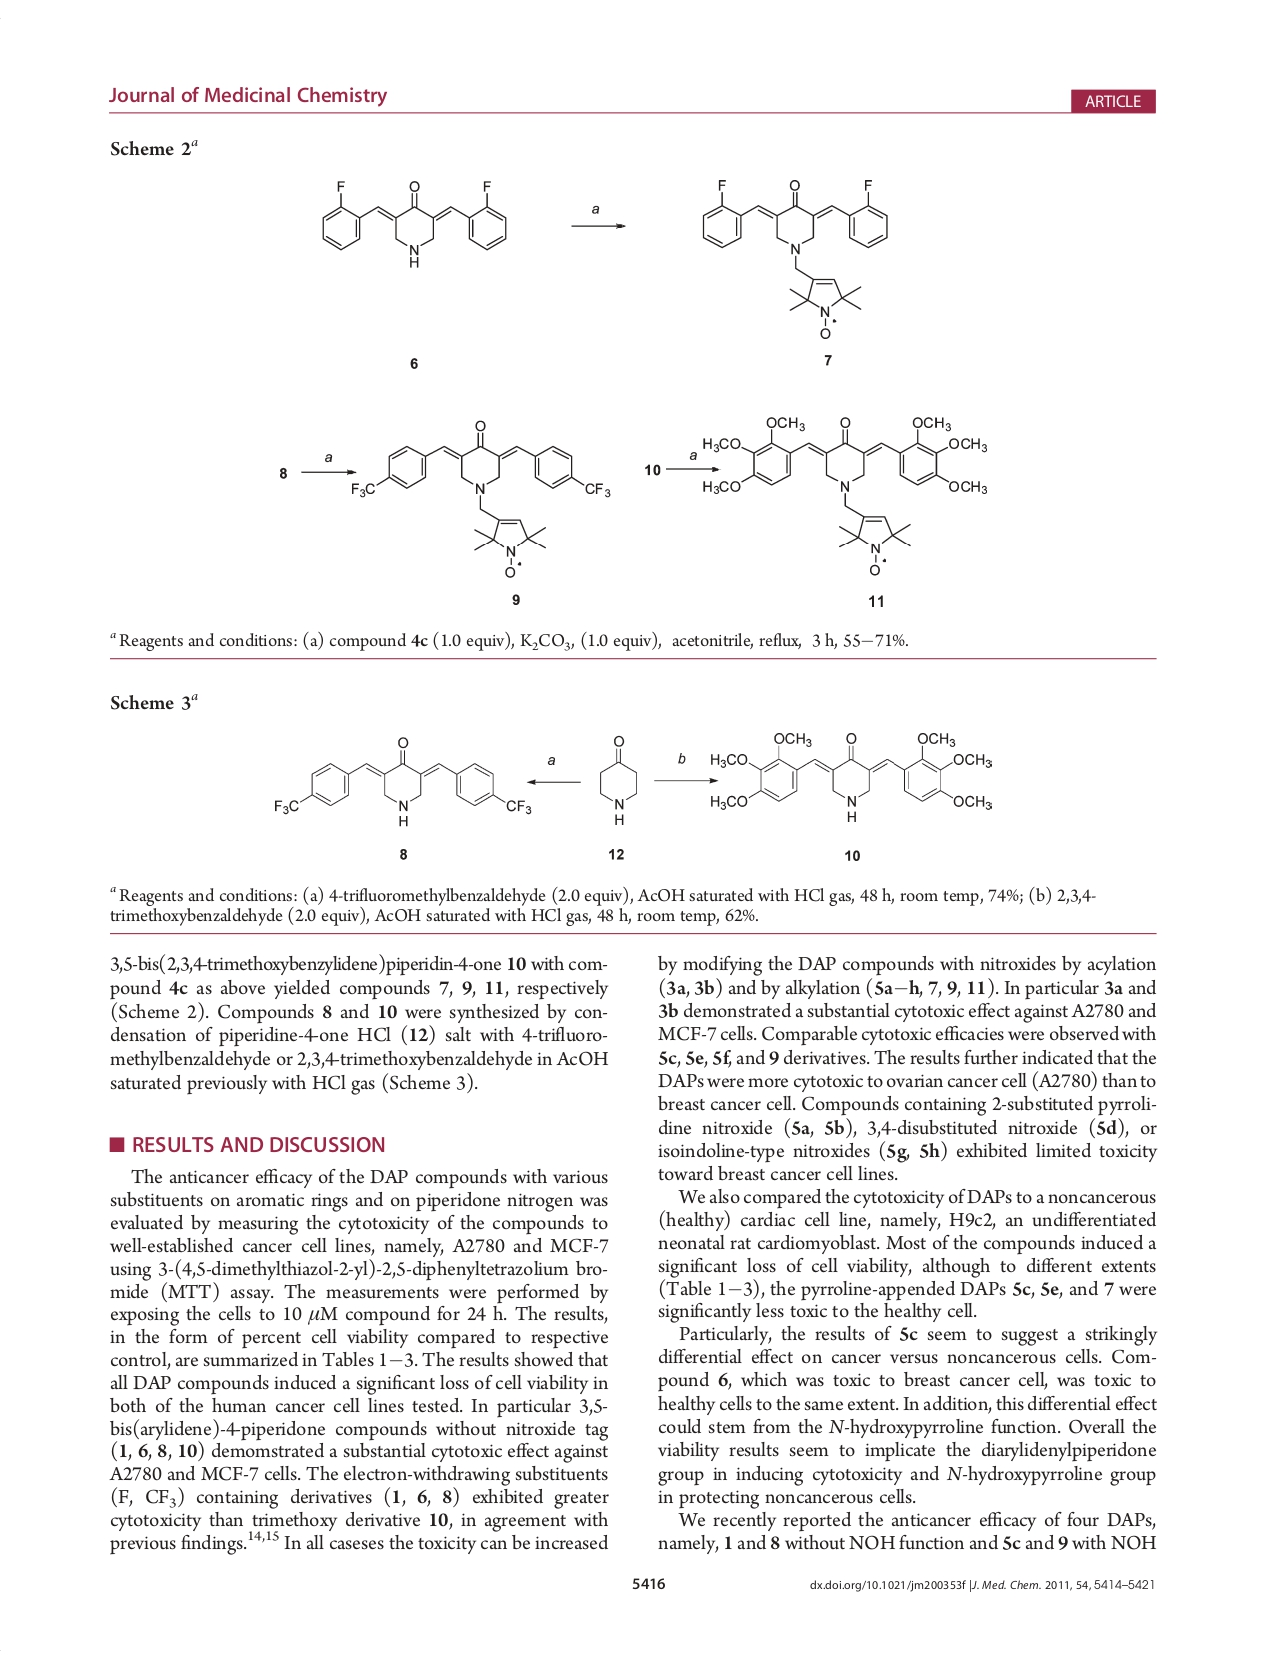exist_molecular: (699, 414, 989, 578), (350, 418, 614, 581), (699, 174, 892, 340), (706, 730, 993, 825), (273, 735, 533, 829), (318, 176, 509, 270), (592, 729, 642, 830)
